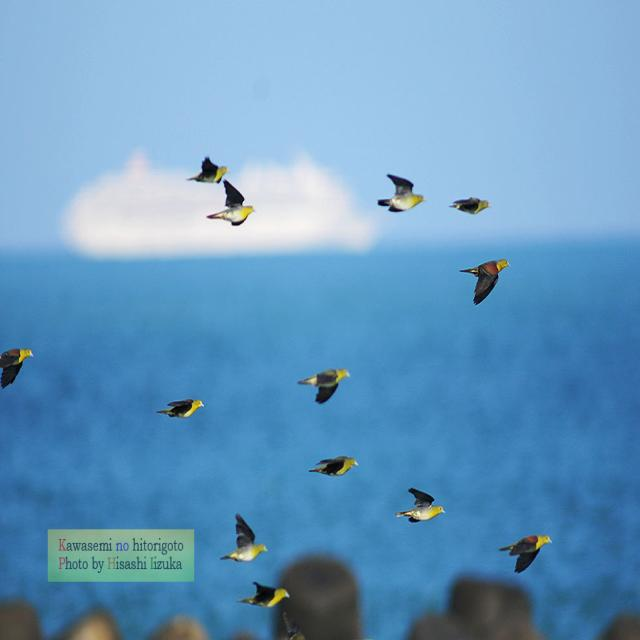bird: (219, 514, 267, 568), (460, 260, 512, 305), (500, 533, 550, 577), (207, 182, 255, 227), (296, 368, 348, 408), (379, 172, 427, 215), (395, 486, 444, 527), (237, 578, 288, 610), (0, 349, 34, 393), (311, 451, 358, 482), (186, 156, 227, 188), (154, 398, 202, 422), (447, 194, 491, 220)
